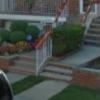stairs: (82, 15, 100, 48)
